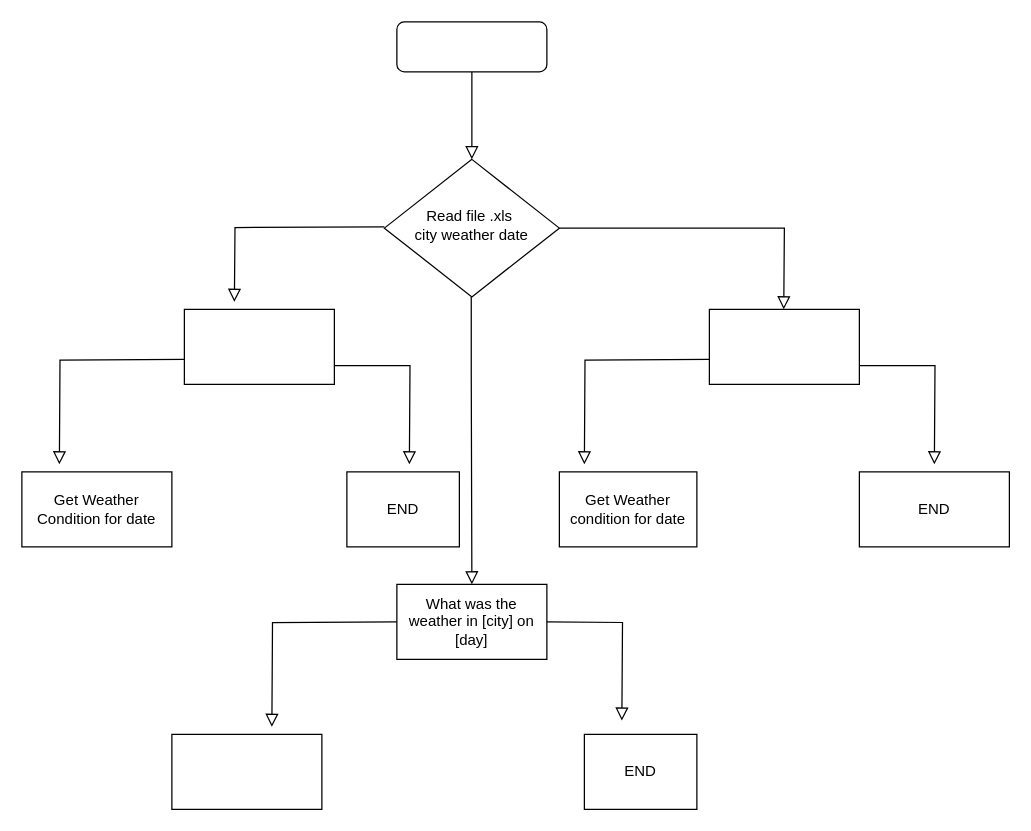
The diagram is 1031 pixels wide and 831 high, and some of its shapes have lost their labels. The centre of each missing label's shape, as x and y in pixels:
"Forecast City" goes at [471,46].
"Get Weather Condition for city, day" goes at [246,771].
"What will it be the weather in [city] tomorrow" goes at [783,346].
"What's the weather in city [today]" goes at [258,346].
